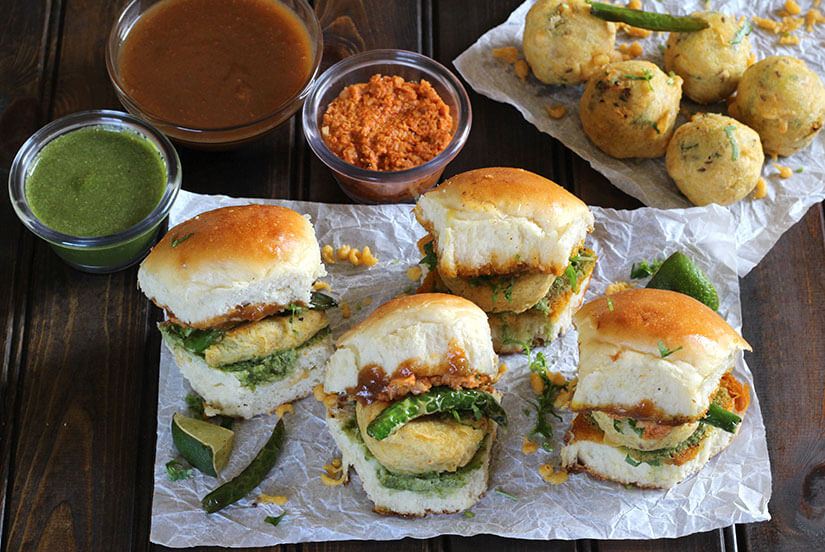vada pav: (327, 292, 496, 504), (571, 286, 728, 489), (148, 223, 323, 397), (420, 166, 573, 318)
